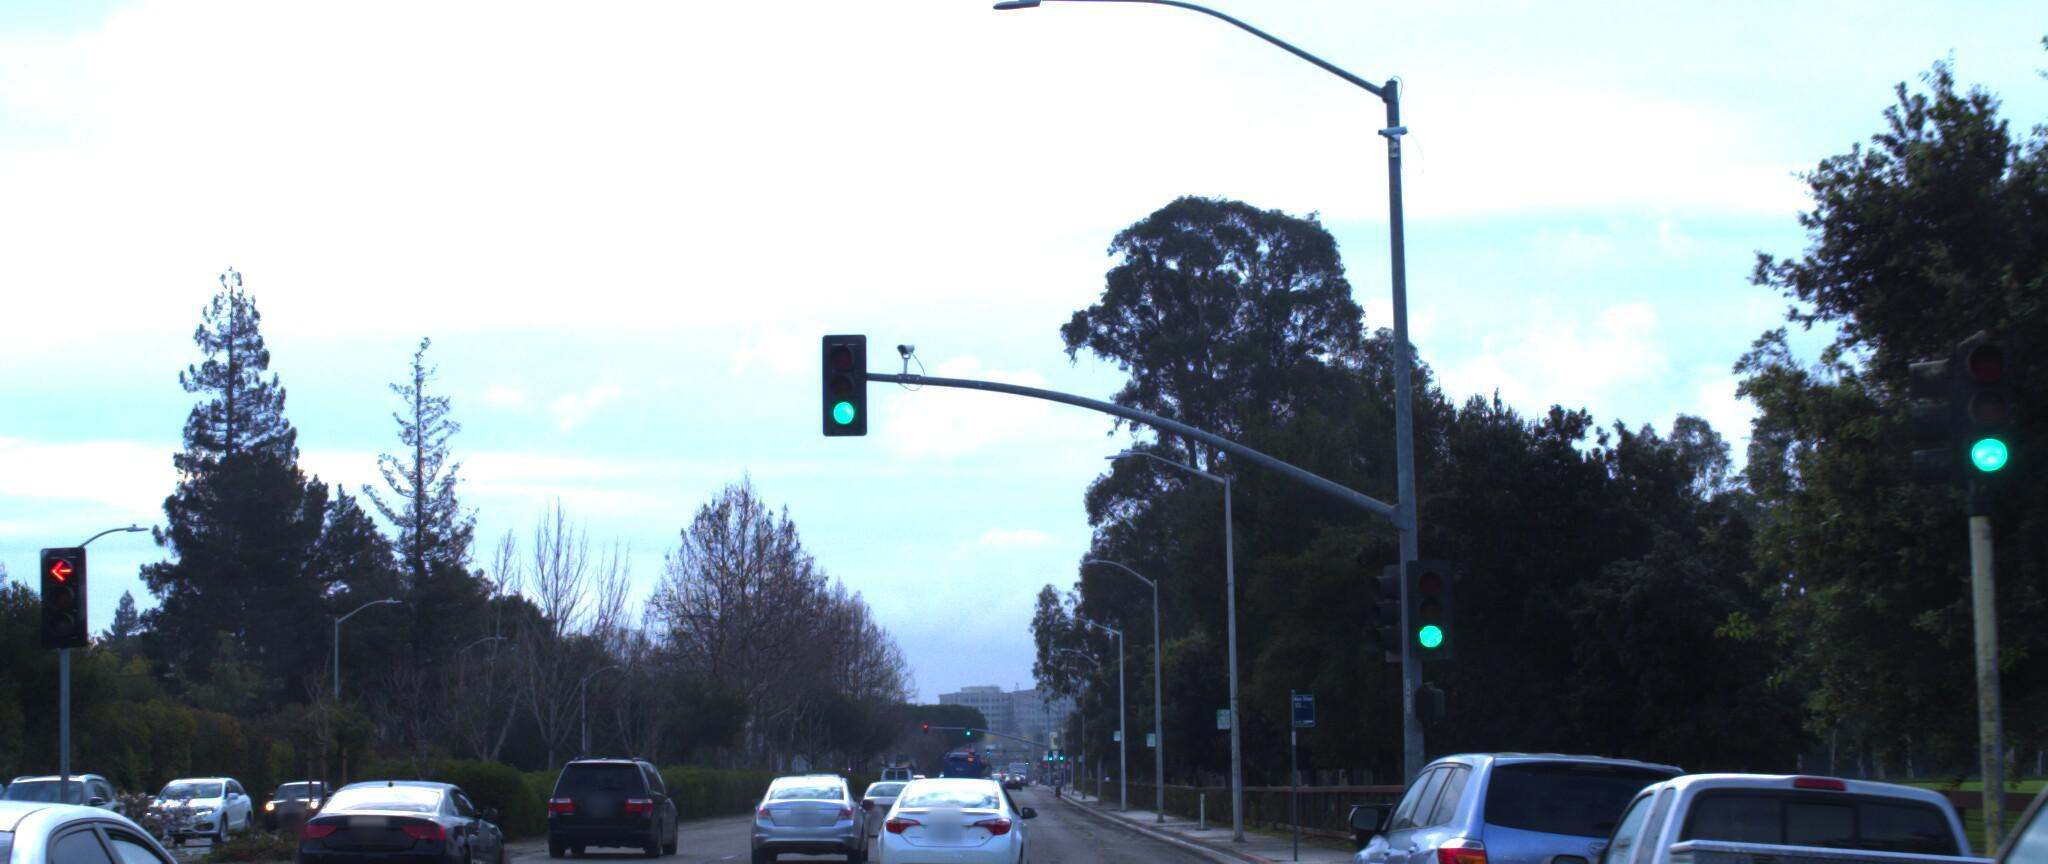car: (1482, 747, 2048, 864), (1733, 663, 2048, 864), (1304, 735, 1733, 864), (0, 754, 368, 864), (276, 764, 522, 864), (867, 754, 1031, 864), (532, 747, 679, 852), (739, 754, 878, 854), (0, 764, 129, 861), (135, 767, 255, 835), (837, 760, 918, 820), (0, 770, 13, 860)
